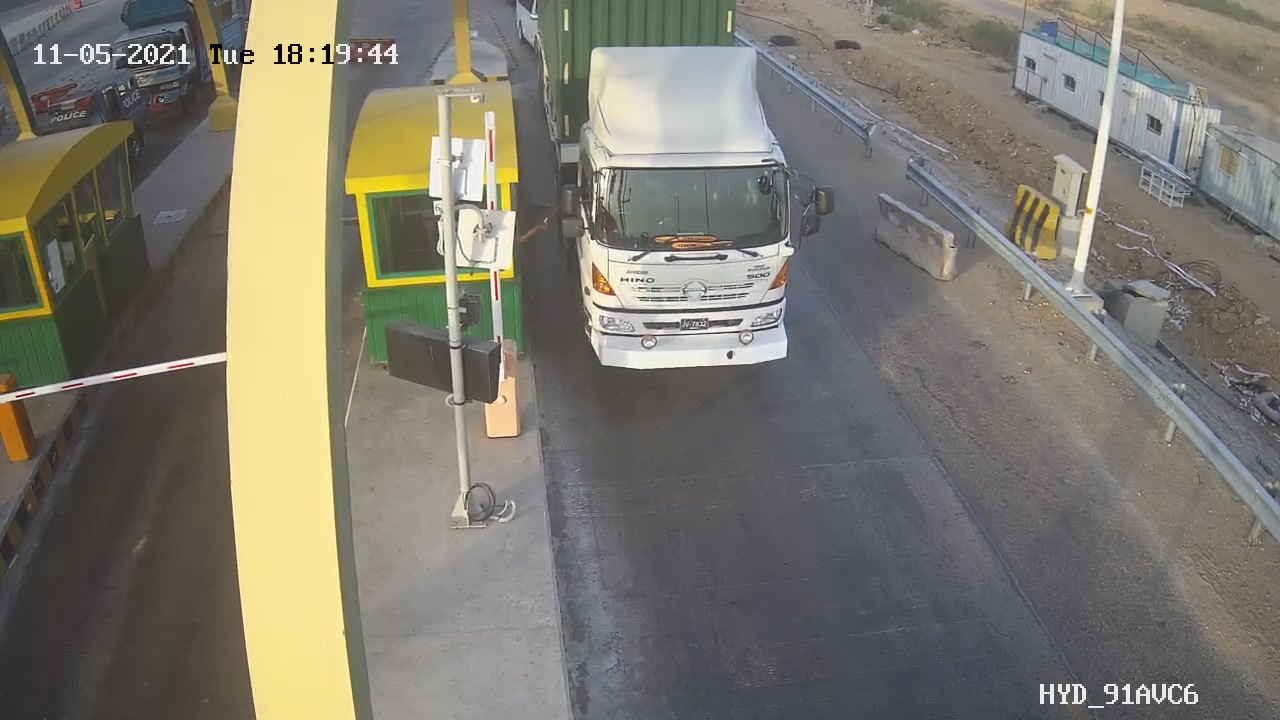F6: (523, 9, 846, 380)
